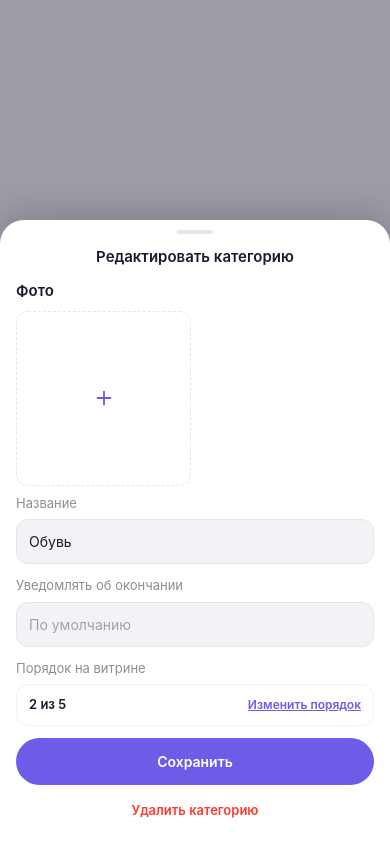
Test: EditCategorySheet — порядок на витрине › при ошибке реордера показывает сообщение и оставляет пикер открытым
Click the button "Изменить порядок" at x=304, y=705, box [248,696,361,714]
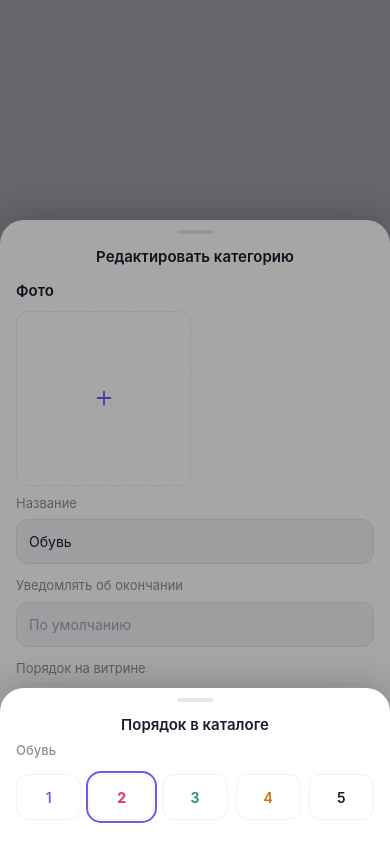
Click the button "3" at x=195, y=797, box [162,774,228,820]
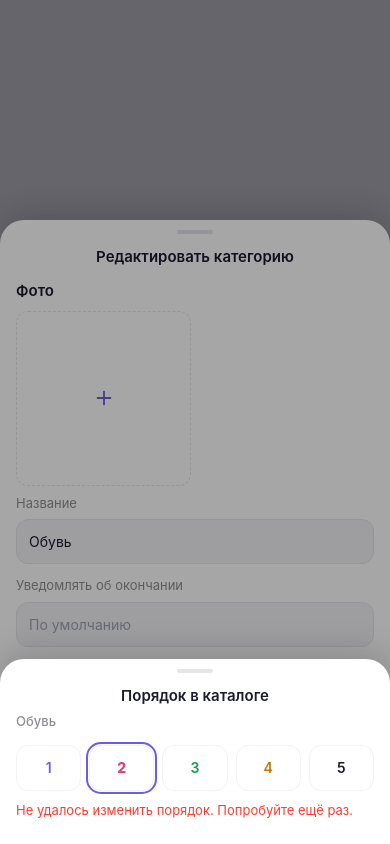
Now the button "5" is shown, box [309,744,374,790]
Now the message shows "Не удалось изменить порядок", box [16,802,353,818]
